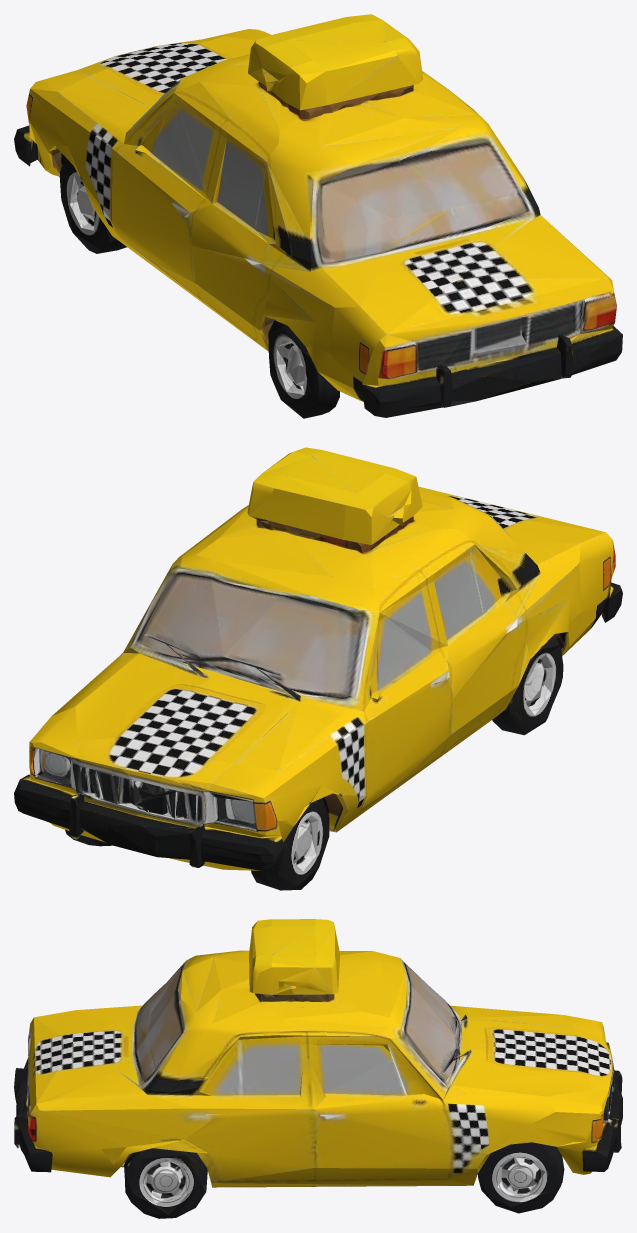
File: taxi.glb
3 renders of one model, top to bottom at view 1: azimuth 30°, elevation 25°; view 2: azimuth 150°, elevation 25°; view 3: azimuth 270°, elevation 25°, orthographic. The views are drawn at different scales.
Bounding box in the file's own units: 1.84 × 1.89 × 4.5.
Materials: 1 (1 with a texture image).
